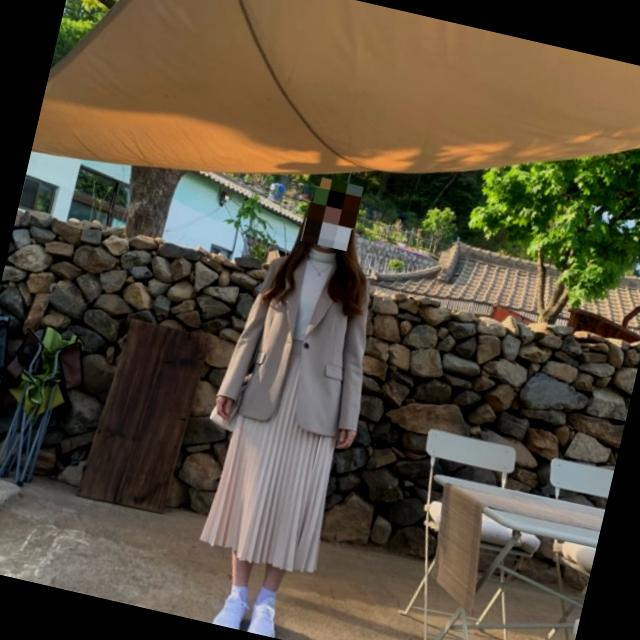blazer: (212, 231, 394, 446)
skirt: (195, 327, 366, 578)
